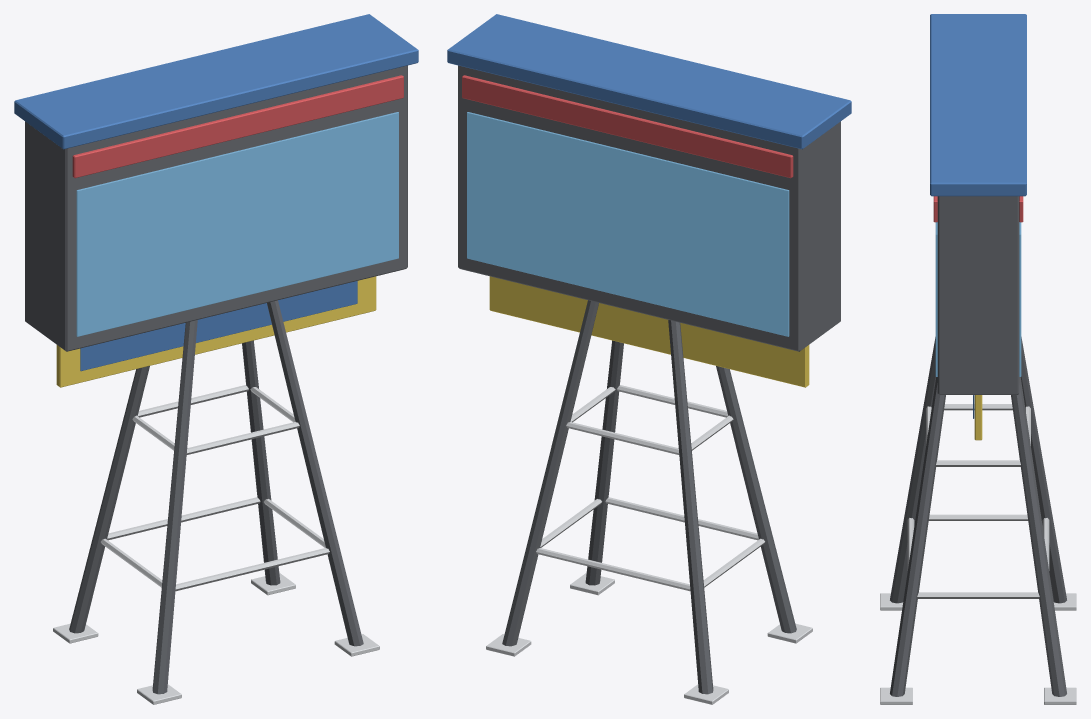
File: ice-hockey-arena-and-locker-room-arena-scoreboard-655d2b37.glb
3 renders of one model, left to right at view 1: azimuth 30°, elevation 25°; view 2: azimuth 150°, elevation 25°; view 3: azimuth 270°, elevation 25°, orthographic. The views are drawn at different scales.
Parts seen in each view (by area): view 1: arena-scoreboard, score-flap/blue, score-flap/yellow; view 2: arena-scoreboard, score-flap/yellow; view 3: arena-scoreboard, score-flap/yellow.
Part boxes in pixels (x1,y1,x2,y2): arena-scoreboard: (14,14,418,704); score-flap/blue: (80,281,357,371); score-flap/yellow: (56,276,376,387); arena-scoreboard: (447,14,851,704); score-flap/yellow: (489,276,809,387); arena-scoreboard: (880,14,1076,704); score-flap/yellow: (974,395,982,440).
Size of the model in its own units: 2.7 by 4.11 by 1.32.
